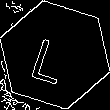L_N: (32, 26, 78, 84)
